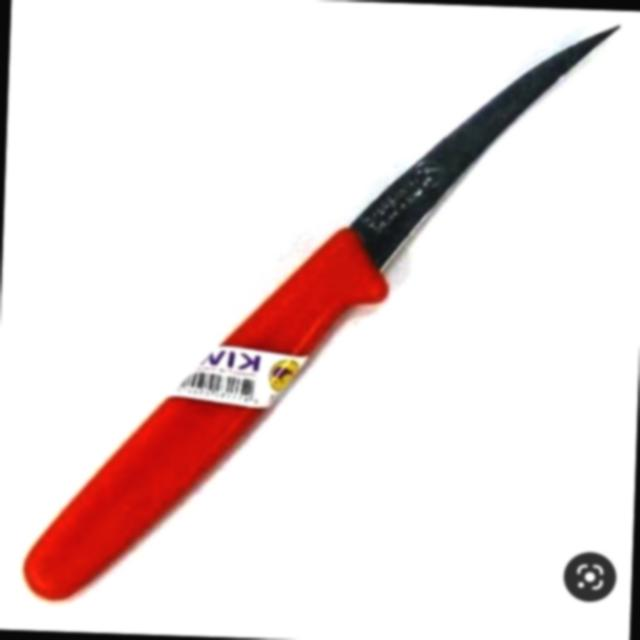knife: (11, 0, 624, 626)
